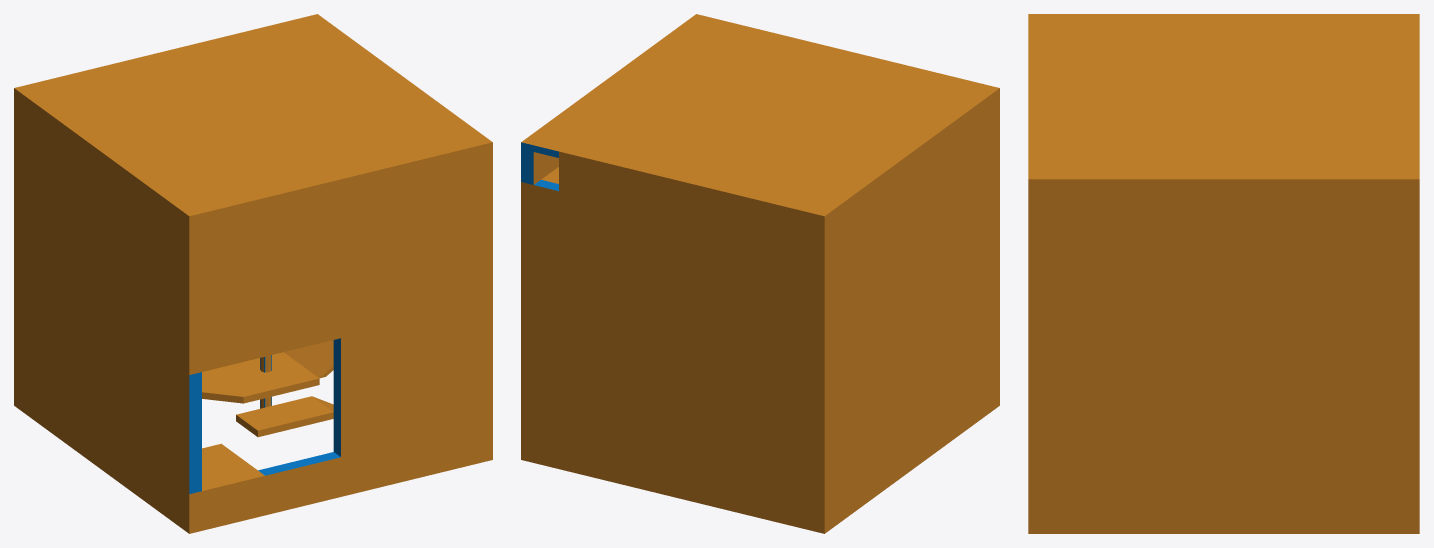
Rendered from LM1_Practice_Jump.FBX.
3 views of the same model, side by side, from view 1: azimuth 30°, elevation 25°; view 2: azimuth 150°, elevation 25°; view 3: azimuth 270°, elevation 25° (orthographic). The views are drawn at different scales.
Parts seen in each view (by area): view 1: LM1_Practice_Jump; view 2: LM1_Practice_Jump; view 3: LM1_Practice_Jump.
Boxes of the visible parts, x1,y1,x2,y2 form: LM1_Practice_Jump: (14, 14, 492, 533); LM1_Practice_Jump: (521, 14, 999, 533); LM1_Practice_Jump: (1028, 14, 1419, 533).
Size of the model in its own units: 48 by 48 by 48.
